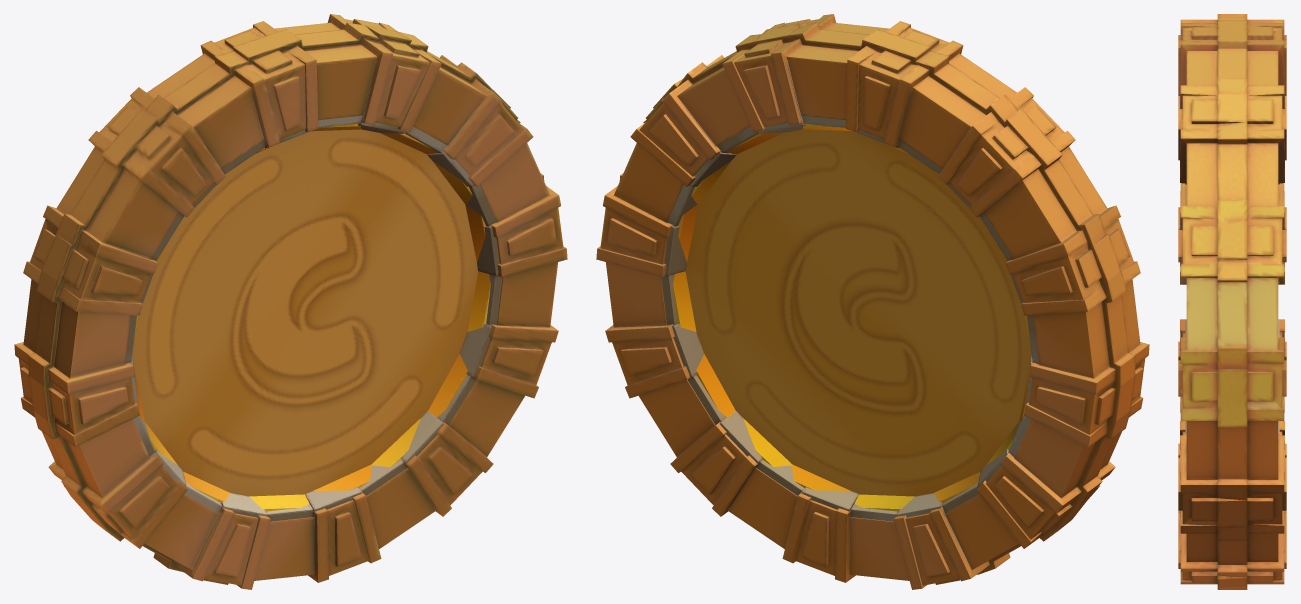
File: Coins.fbx
3 renders of one model, left to right at view 1: azimuth 30°, elevation 25°; view 2: azimuth 150°, elevation 25°; view 3: azimuth 270°, elevation 25°, orthographic.
Parts seen in each view (by area): view 1: Coin-3, Coin-2, Coin-1; view 2: Coin-3, Coin-2, Coin-1; view 3: Coin-3.
Boxes of the visible parts, x1=… form: Coin-3: x1=14, y1=14, x2=567, y2=589; Coin-2: x1=119, y1=60, x2=502, y2=572; Coin-1: x1=133, y1=123, x2=490, y2=511; Coin-3: x1=596, y1=14, x2=1149, y2=589; Coin-2: x1=655, y1=60, x2=1040, y2=572; Coin-1: x1=673, y1=123, x2=1030, y2=511; Coin-3: x1=1178, y1=14, x2=1286, y2=589.
Size of the model in its own units: 0.969 by 0.969 by 0.1818.
